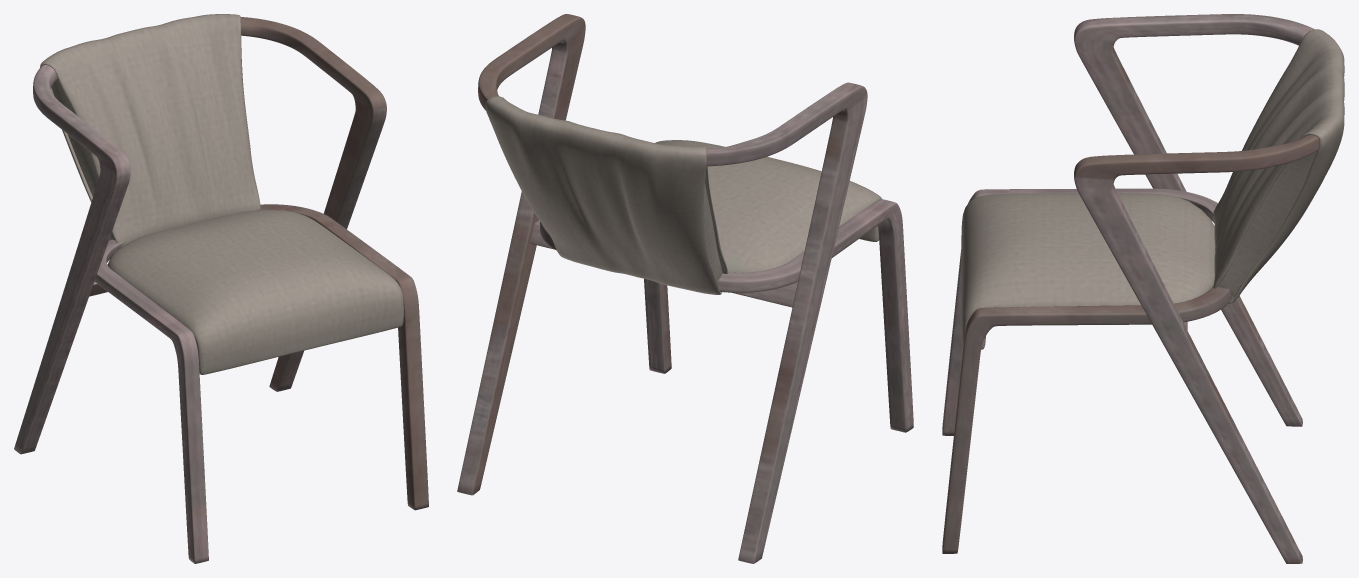
File: modern_wooden_fabric_chair.glb
3 views of the same model, side by side, from view 1: azimuth 30°, elevation 25°; view 2: azimuth 150°, elevation 25°; view 3: azimuth 270°, elevation 25° (orthographic). The views are drawn at different scales.
Parts seen in each view (by area): view 1: Chair 17; view 2: Chair 17; view 3: Chair 17.
Part boxes in pixels (x1,y1,x2,y2): Chair 17: [14, 14, 428, 563]; Chair 17: [457, 14, 913, 563]; Chair 17: [942, 14, 1344, 563].
Bounding box in the file's own units: 0.5412 × 0.7116 × 0.6309.
Materials: 1 (1 with a texture image).
